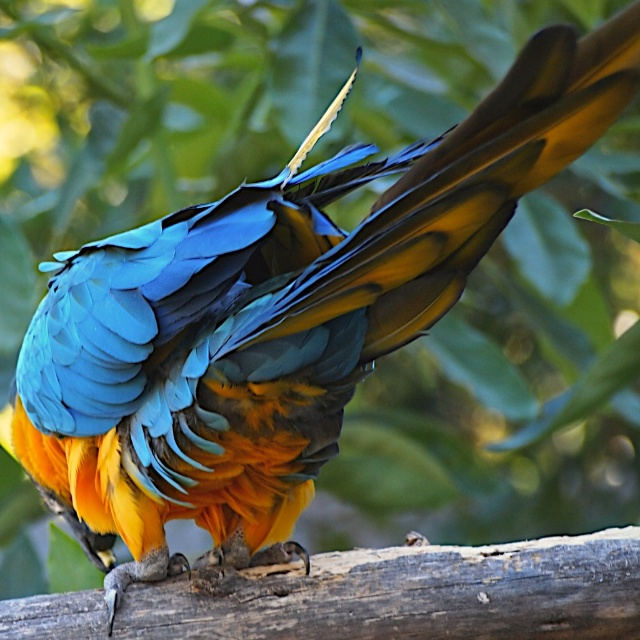Parrot: (0, 0, 640, 635)
